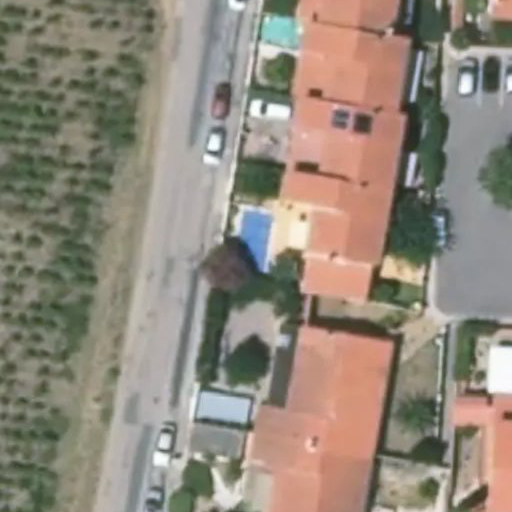pool: (234, 208, 275, 273)
